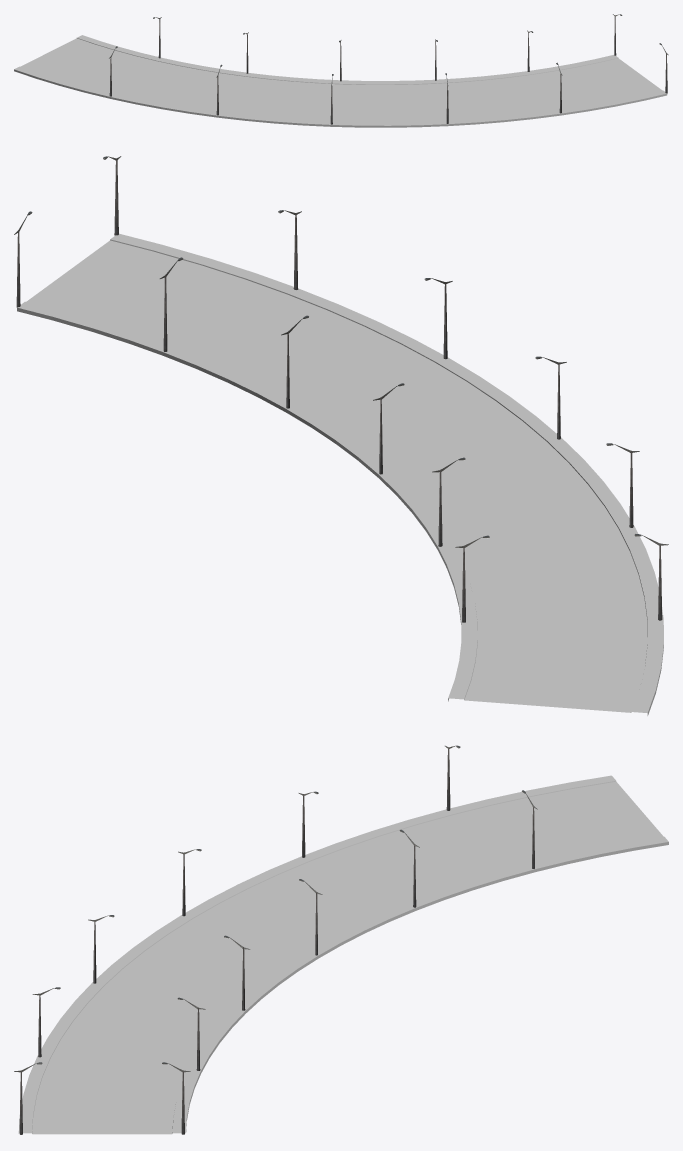
The model's file is Big_Road_70.FBX.
3 views of the same model, one above another, from view 1: azimuth 30°, elevation 25°; view 2: azimuth 150°, elevation 25°; view 3: azimuth 270°, elevation 25° (orthographic). The views are drawn at different scales.
Parts seen in each view (by area): view 1: Big_Road_70, city_light013; view 2: Big_Road_70, city_light013; view 3: Big_Road_70, city_light013.
Part boxes in pixels (x1,y1,x2,y2): Big_Road_70: [14, 35, 667, 127]; city_light013: [109, 14, 668, 124]; Big_Road_70: [17, 233, 663, 715]; city_light013: [14, 156, 668, 622]; Big_Road_70: [18, 775, 668, 1134]; city_light013: [14, 745, 537, 1134].
Size of the model in its own units: 115 by 88.79 by 11.04.
